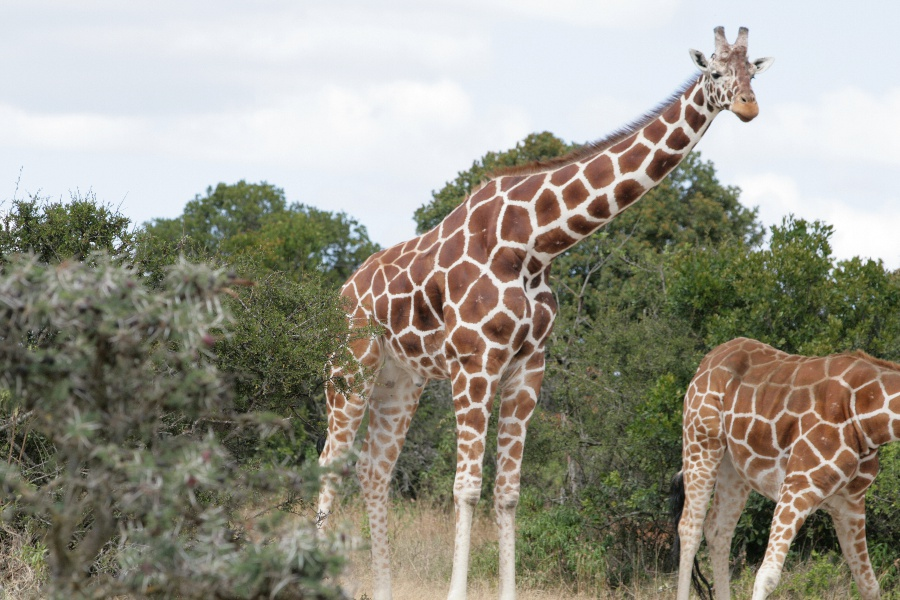giraffe: (303, 14, 779, 594), (665, 320, 899, 598)
